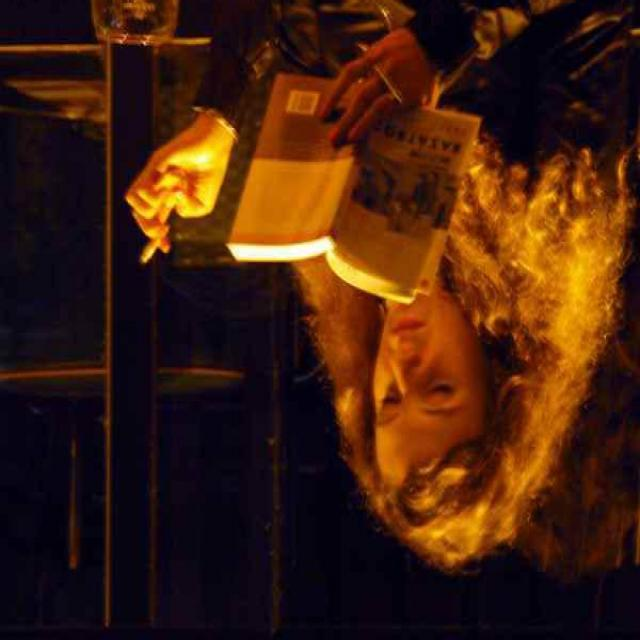cigarette: (136, 214, 173, 278)
